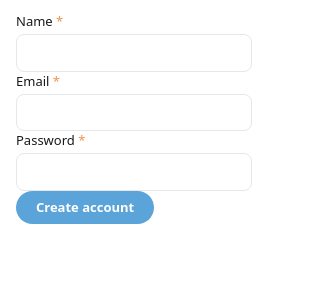
Test: form_submit flow (R6 — registration path) › shows the plain-text 409 reason inline, not "Something went wrong" (live-bug regression, owner 2026-07-28)
Type "Vlad" into the field with class "kw-input" showing "Name *". click: [134, 53]
box: [16, 34, 252, 72]
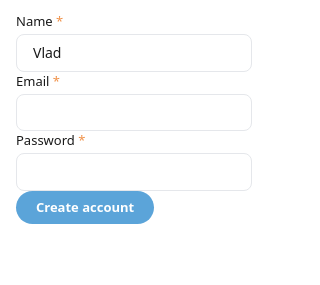
Type "v@k.one" into the field with class "kw-input" showing "Email *". click: [134, 112]
box: [16, 94, 252, 131]
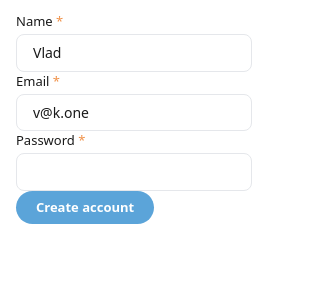
Type "hunter22" into the password field with class "kw-input" showing "Password *". click: [134, 172]
box: [16, 153, 252, 191]
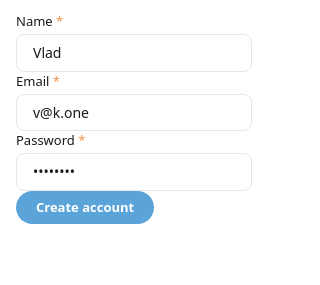
Click the button with class "kw-submit". click: [85, 207]
box: [16, 191, 154, 224]
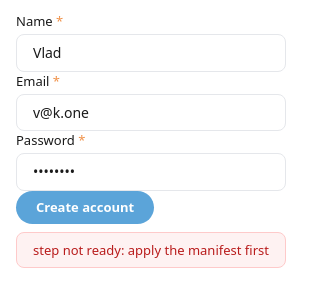
Now the message with class "kw-form-message" reads "step not ready: apply the manifest first", box [33, 241, 269, 259]
